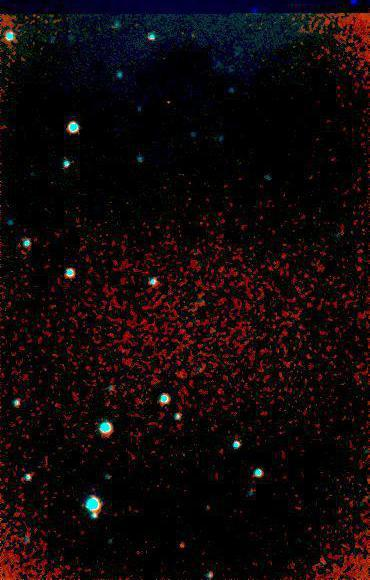star: (167, 531, 197, 561)
